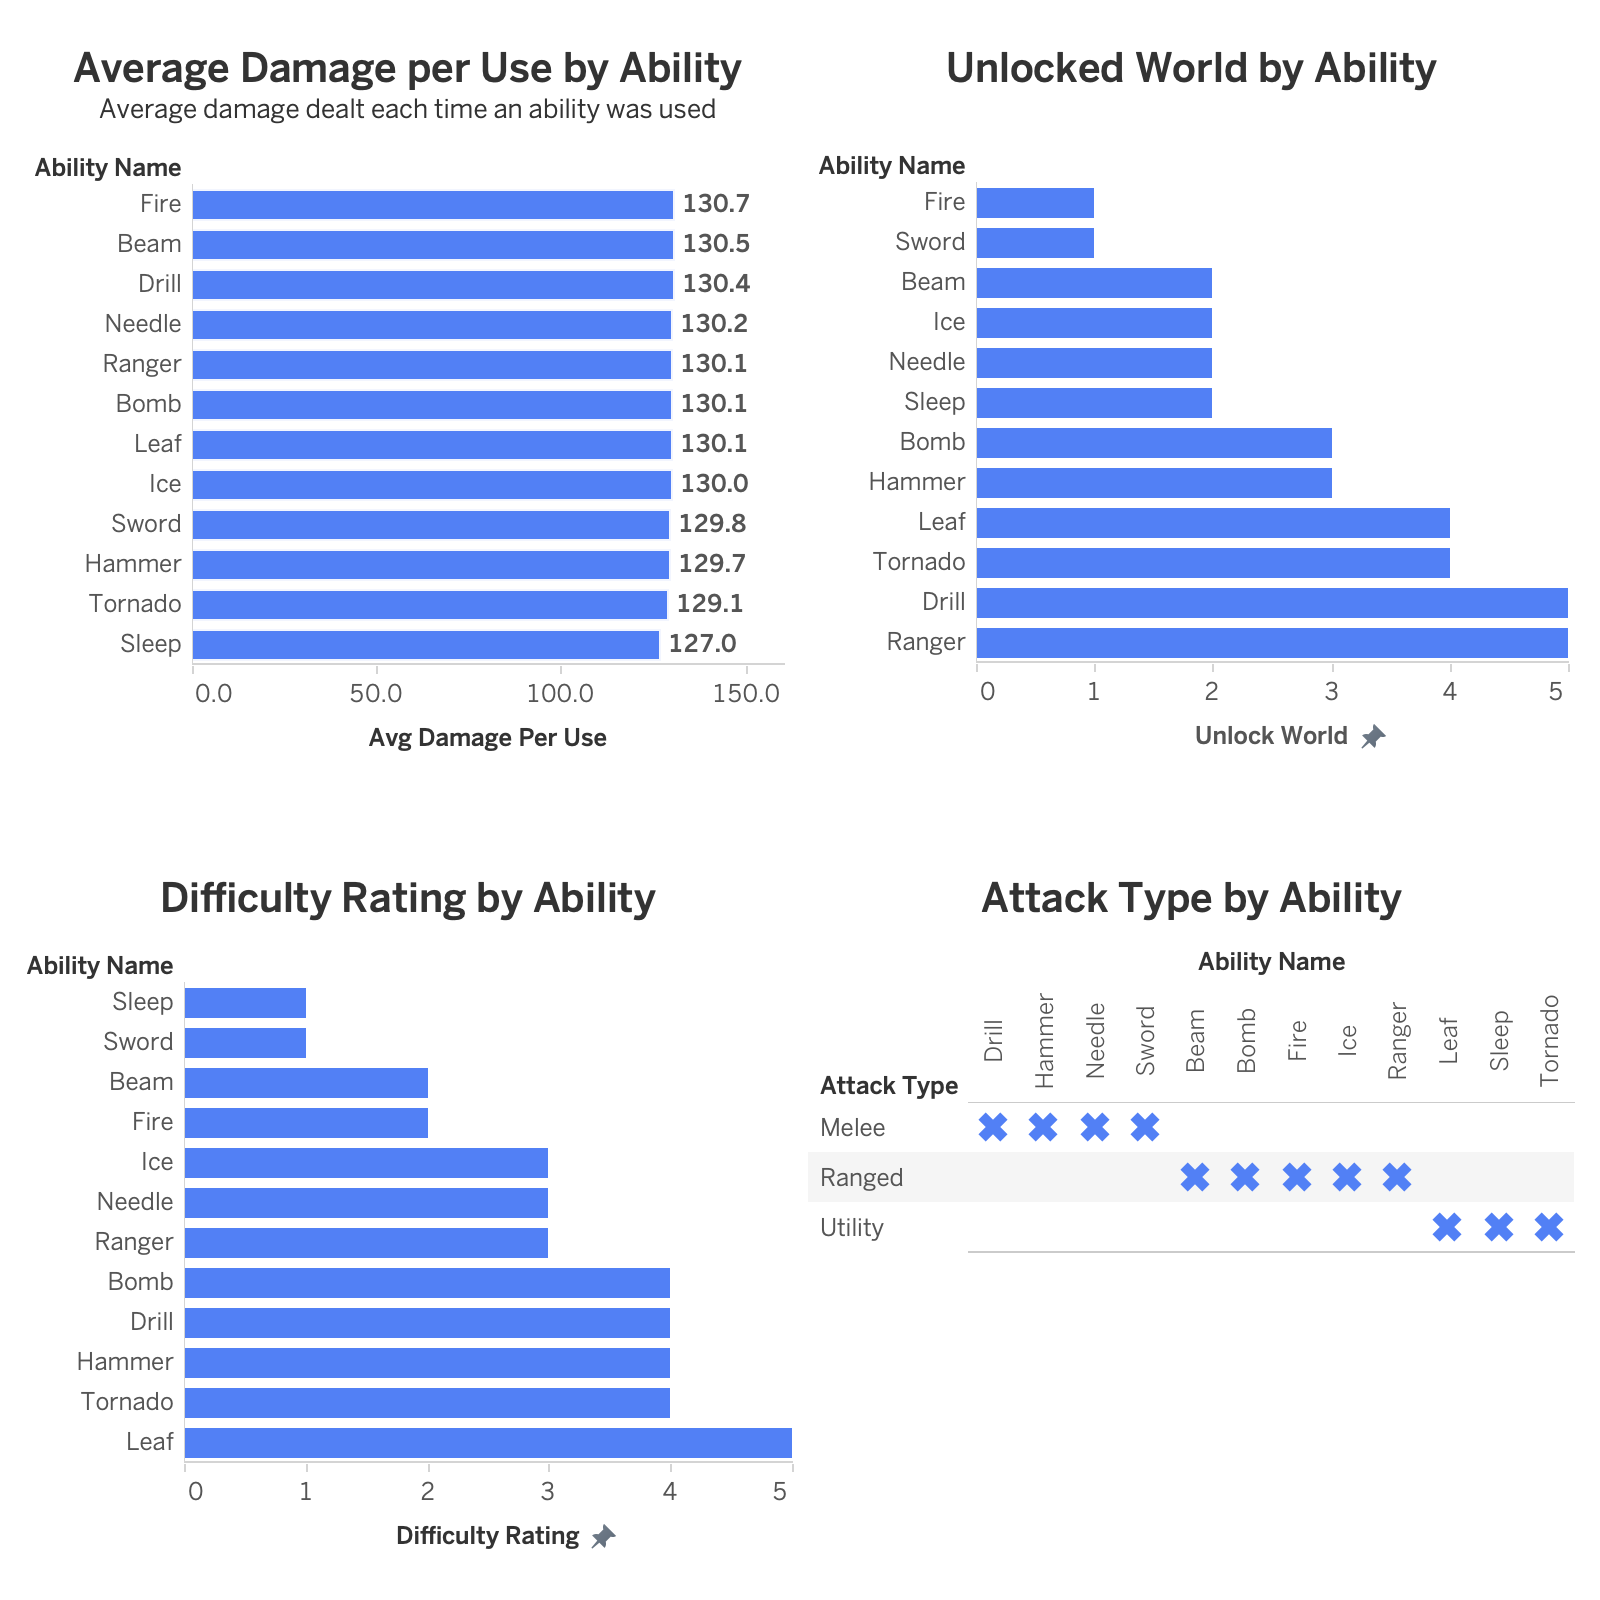

What the dashboard file says about the page in this screenshot:
{"tool":"tableau","page":{"name":"Analysis 2","canvas":[800,800],"ordinal":4},"visuals":[{"type":"worksheet","title":"Damage per Use","mark":"Automatic","rows":["ability_name"],"cols":["damage_per_use"],"box":[8,8,392,392]},{"type":"worksheet","title":"Unlocked World","mark":"Automatic","rows":["ability_name"],"cols":["unlock_world"],"box":[400,8,392,392]},{"type":"worksheet","title":"Difficulty","mark":"Automatic","rows":["ability_name"],"cols":["difficulty_rating"],"box":[8,400,392,392]},{"type":"worksheet","title":"Attack Type","mark":"Shape","rows":["attack_type"],"cols":["ability_name"],"box":[400,400,392,392]}]}

Visuals, with their boxes in screenshot pixels (x1, y1, x2, y2), scaled from the page's 800x800 canvas onto the 1600x1600 screenshot:
"Damage per Use" worksheet: select_region(16, 16, 800, 800)
"Unlocked World" worksheet: select_region(800, 16, 1584, 800)
"Difficulty" worksheet: select_region(16, 800, 800, 1584)
"Attack Type" worksheet (Shape marks): select_region(800, 800, 1584, 1584)
